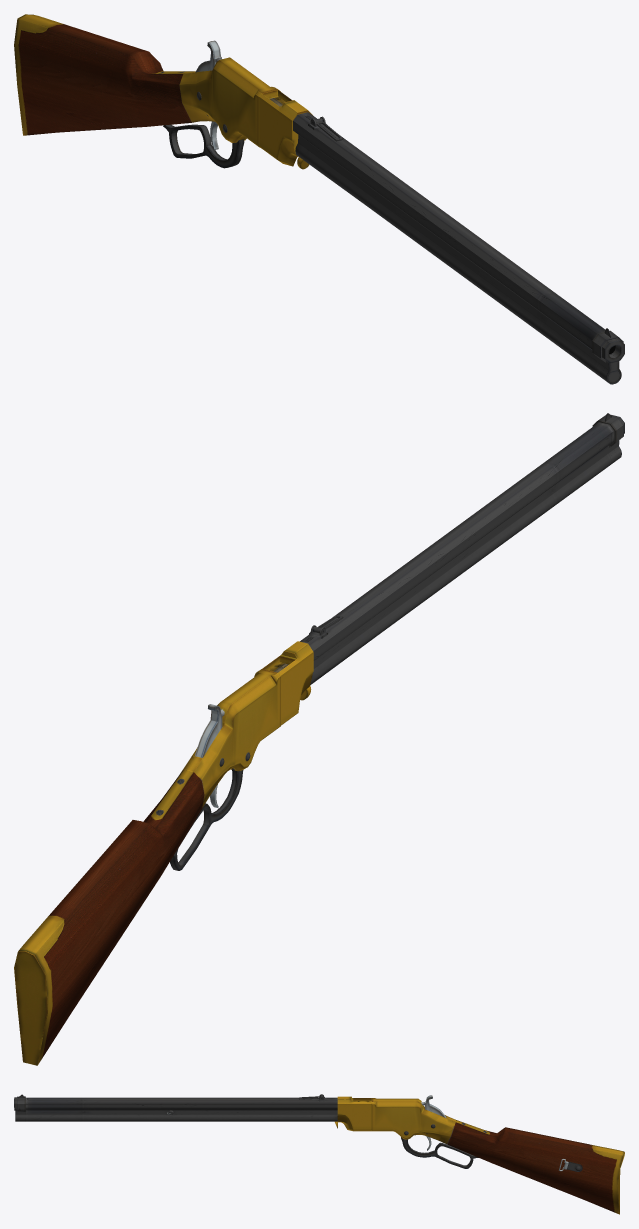
File: lowpoly.FBX
The picture shows the model from 3 angles, top to bottom: view 1: azimuth 30°, elevation 25°; view 2: azimuth 150°, elevation 25°; view 3: azimuth 270°, elevation 25°; orthographic projection. The views are drawn at different scales.
Visible parts, largest first — view 1: lowpoly; view 2: lowpoly; view 3: lowpoly.
Boxes of the visible parts, left/top/right/bottom form: lowpoly: left=14, top=14, right=624, bottom=384; lowpoly: left=14, top=413, right=624, bottom=1065; lowpoly: left=14, top=1094, right=624, bottom=1214.
Bounding box in the file's own units: 16.25 × 91.82 × 431.
1 material, 1 textured.
